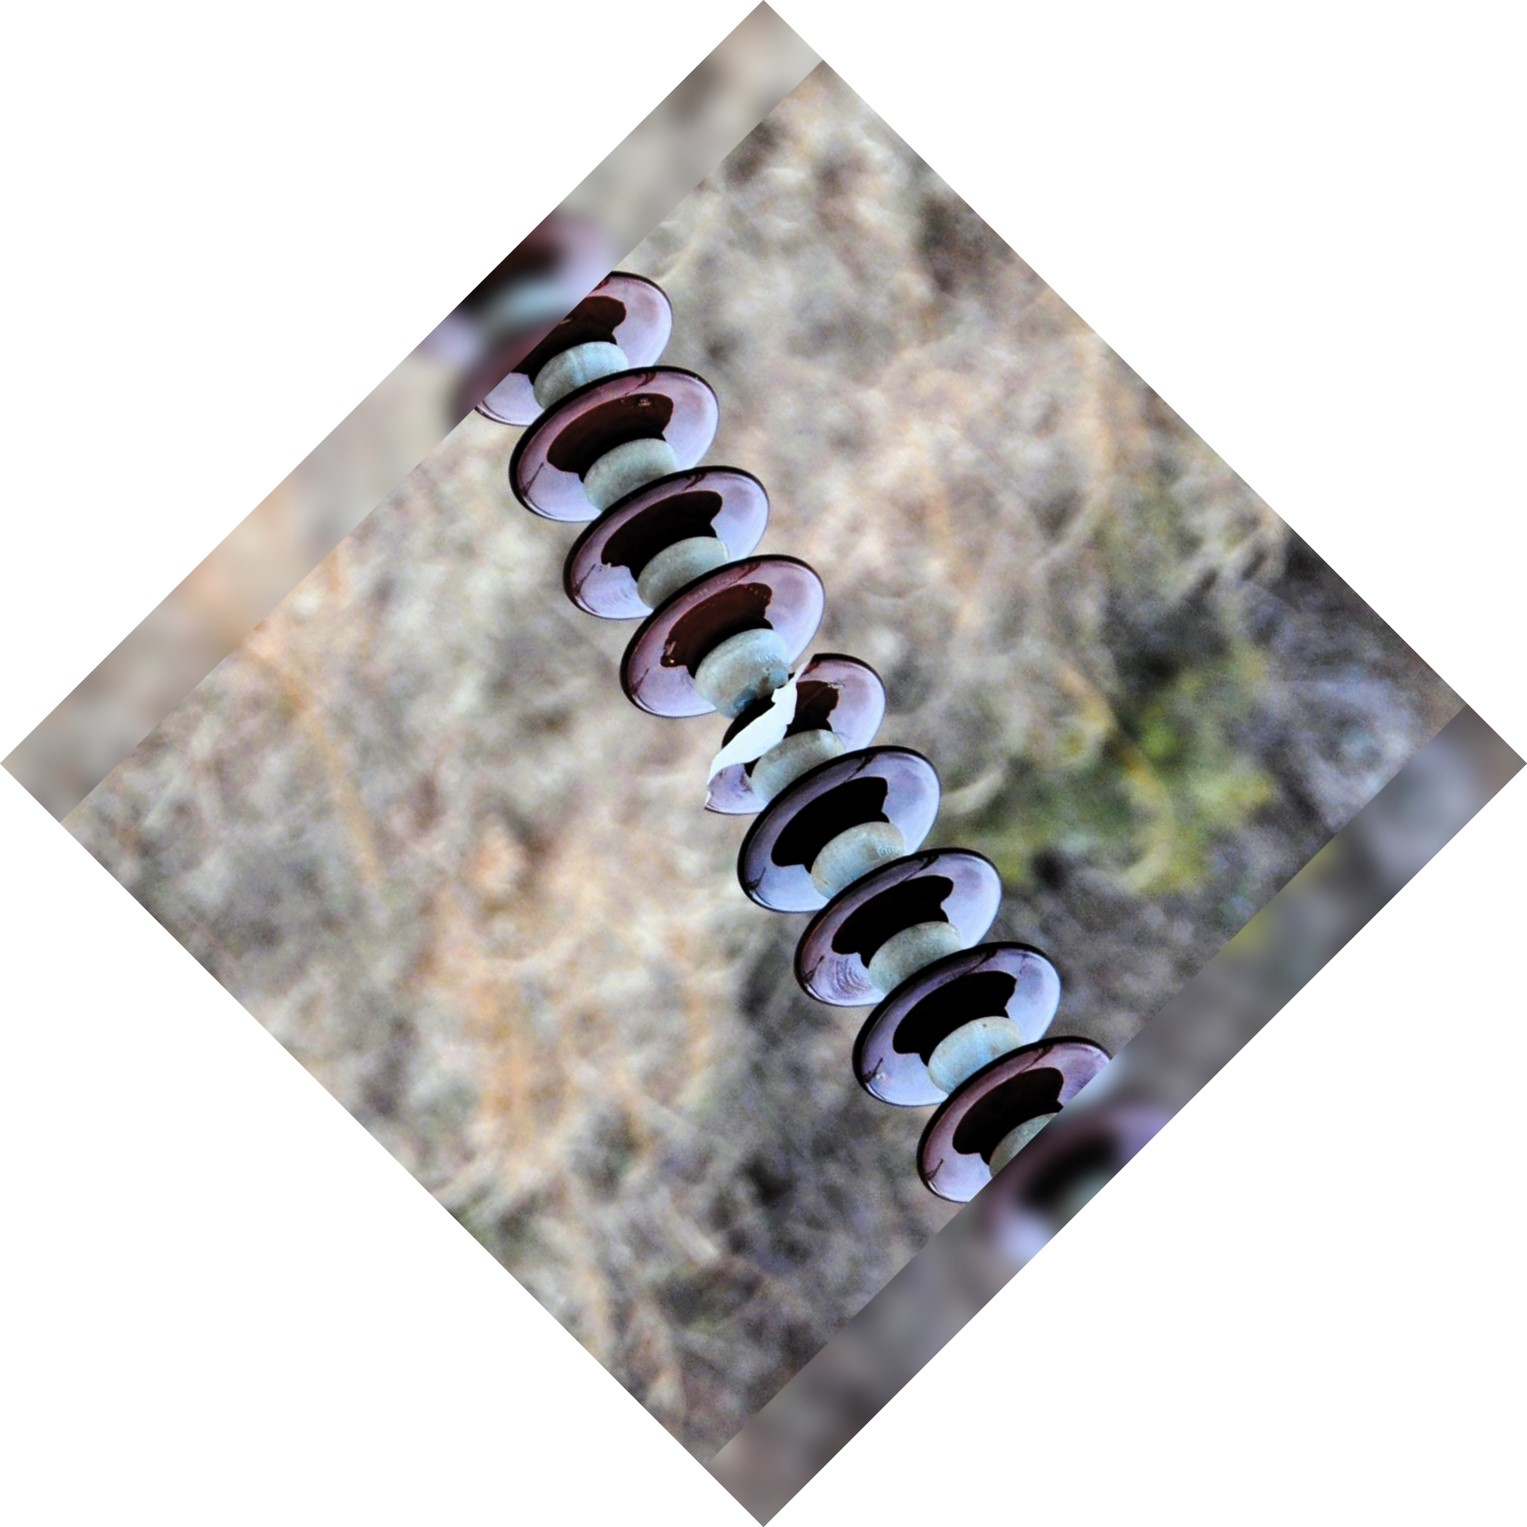insulator breakage: (684, 638, 896, 824)
